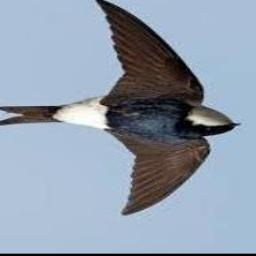Swallow: (0, 0, 242, 217)
